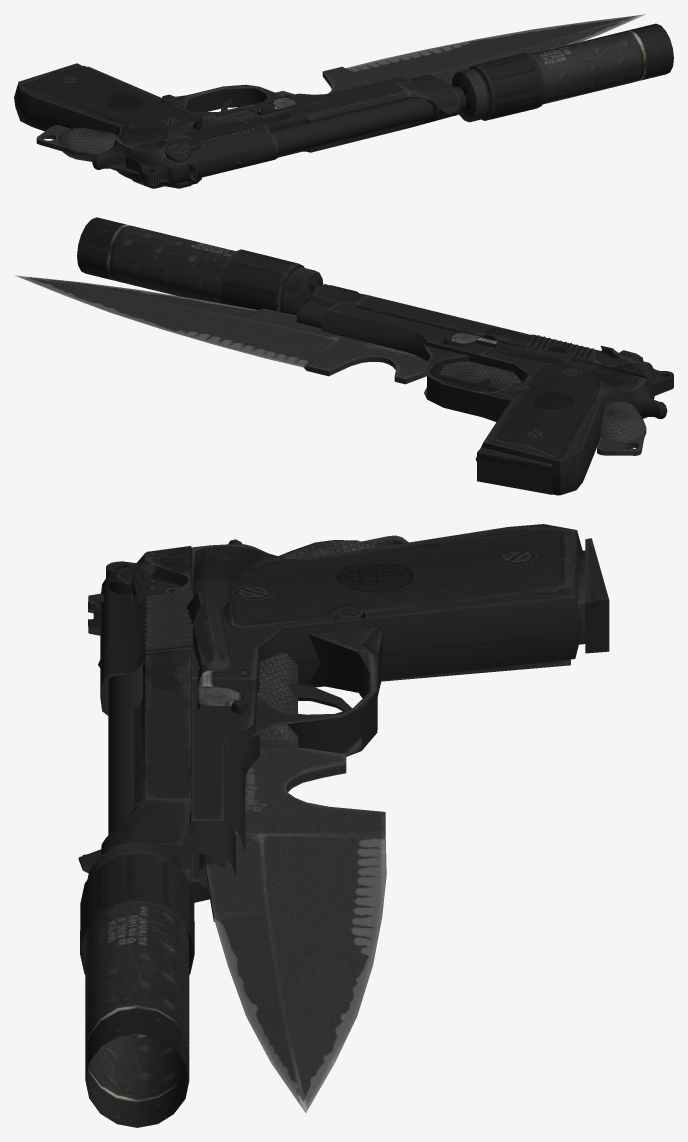
Rendered from viewmodel_beretta_LOD0.obj.
The picture shows the model from 3 angles, top to bottom: view 1: azimuth 30°, elevation 25°; view 2: azimuth 150°, elevation 25°; view 3: azimuth 270°, elevation 25°; orthographic projection. The views are drawn at different scales.
Parts seen in each view (by area): view 1: mtl_weapon_beretta, mtl_weapon_suppressor_b, mtl_weapon_bolo_knife; view 2: mtl_weapon_beretta, mtl_weapon_bolo_knife, mtl_weapon_suppressor_b; view 3: mtl_weapon_beretta, mtl_weapon_bolo_knife, mtl_weapon_suppressor_b.
Part boxes in pixels (x1,y1,x2,y2): mtl_weapon_beretta: [14, 63, 466, 188]; mtl_weapon_suppressor_b: [451, 23, 673, 122]; mtl_weapon_bolo_knife: [36, 14, 645, 161]; mtl_weapon_beretta: [296, 284, 673, 495]; mtl_weapon_bolo_knife: [14, 275, 646, 455]; mtl_weapon_suppressor_b: [77, 217, 323, 315]; mtl_weapon_beretta: [78, 524, 609, 902]; mtl_weapon_bolo_knife: [205, 535, 408, 1112]; mtl_weapon_suppressor_b: [80, 841, 194, 1127].
Size of the model in its own units: 40.74 by 3.61 by 15.93.
